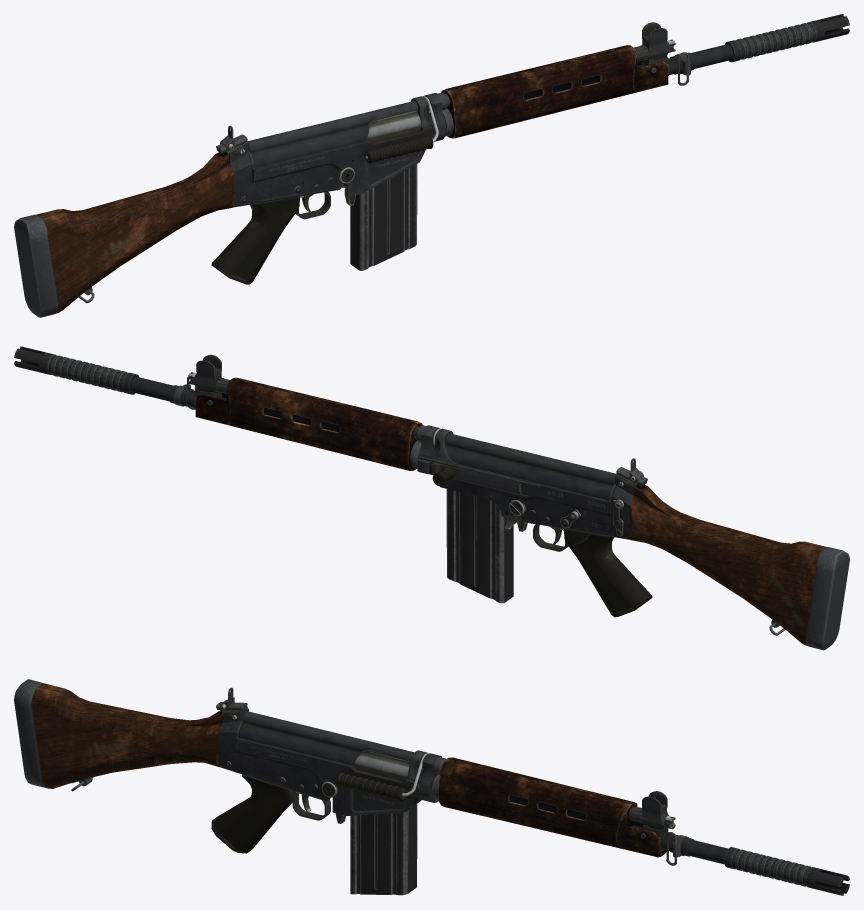
The picture shows the model from 3 angles, top to bottom: view 1: azimuth 30°, elevation 25°; view 2: azimuth 150°, elevation 25°; view 3: azimuth 330°, elevation 25°; orthographic projection.
Parts seen in each view (by area): view 1: Cube.000_gunbody_0, Cube.005_stock_0, Cube.003_foreend_0, Cube.001_mag_0, Cylinder_mb_0; view 2: Cube.000_gunbody_0, Cube.005_stock_0, Cube.003_foreend_0, Cube.001_mag_0, Cylinder_mb_0; view 3: Cube.000_gunbody_0, Cube.005_stock_0, Cube.003_foreend_0, Cube.001_mag_0, Cylinder_mb_0.
Boxes of the visible parts, bbox=[...] form: Cube.000_gunbody_0: bbox=[211, 22, 733, 284]; Cube.005_stock_0: bbox=[14, 152, 233, 317]; Cube.003_foreend_0: bbox=[441, 45, 668, 138]; Cube.001_mag_0: bbox=[350, 132, 417, 270]; Cylinder_mb_0: bbox=[724, 14, 849, 62]; Cube.000_gunbody_0: bbox=[130, 354, 652, 617]; Cube.005_stock_0: bbox=[630, 485, 849, 650]; Cube.003_foreend_0: bbox=[195, 377, 422, 470]; Cube.001_mag_0: bbox=[446, 489, 513, 603]; Cylinder_mb_0: bbox=[14, 346, 138, 394]; Cube.000_gunbody_0: bbox=[211, 687, 727, 865]; Cube.005_stock_0: bbox=[14, 679, 222, 791]; Cube.003_foreend_0: bbox=[432, 757, 666, 857]; Cube.001_mag_0: bbox=[350, 770, 417, 895]; Cylinder_mb_0: bbox=[724, 847, 849, 895].
Size of the model in its own units: 34.12 by 6.79 by 2.73.
5 materials, 5 textured.
